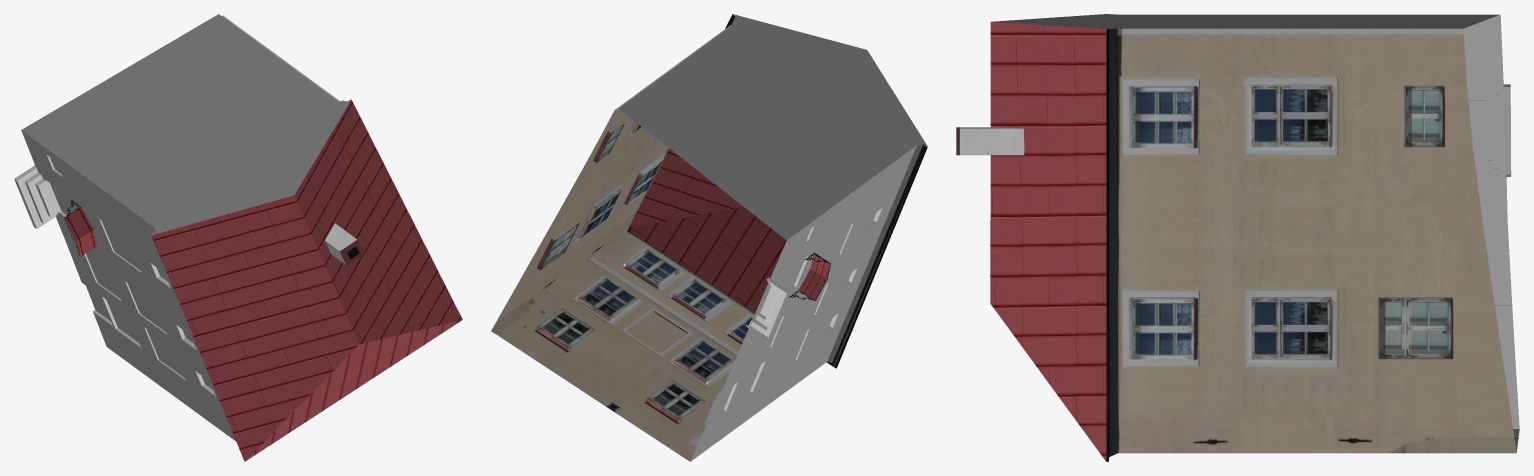
File: Lossi_plats_6.obj
3 views of the same model, side by side, from view 1: azimuth 30°, elevation 25°; view 2: azimuth 150°, elevation 25°; view 3: azimuth 270°, elevation 25° (orthographic). The views are drawn at different scales.
Visible parts, largest first — view 1: Lossi_plats_6; view 2: Lossi_plats_6; view 3: Lossi_plats_6.
Boxes of the visible parts, left/top/right/bottom form: Lossi_plats_6: left=14, top=14, right=462, bottom=461; Lossi_plats_6: left=491, top=14, right=927, bottom=461; Lossi_plats_6: left=956, top=14, right=1519, bottom=461.
Bounding box in the file's own units: 12.38 × 12.79 × 13.53.
